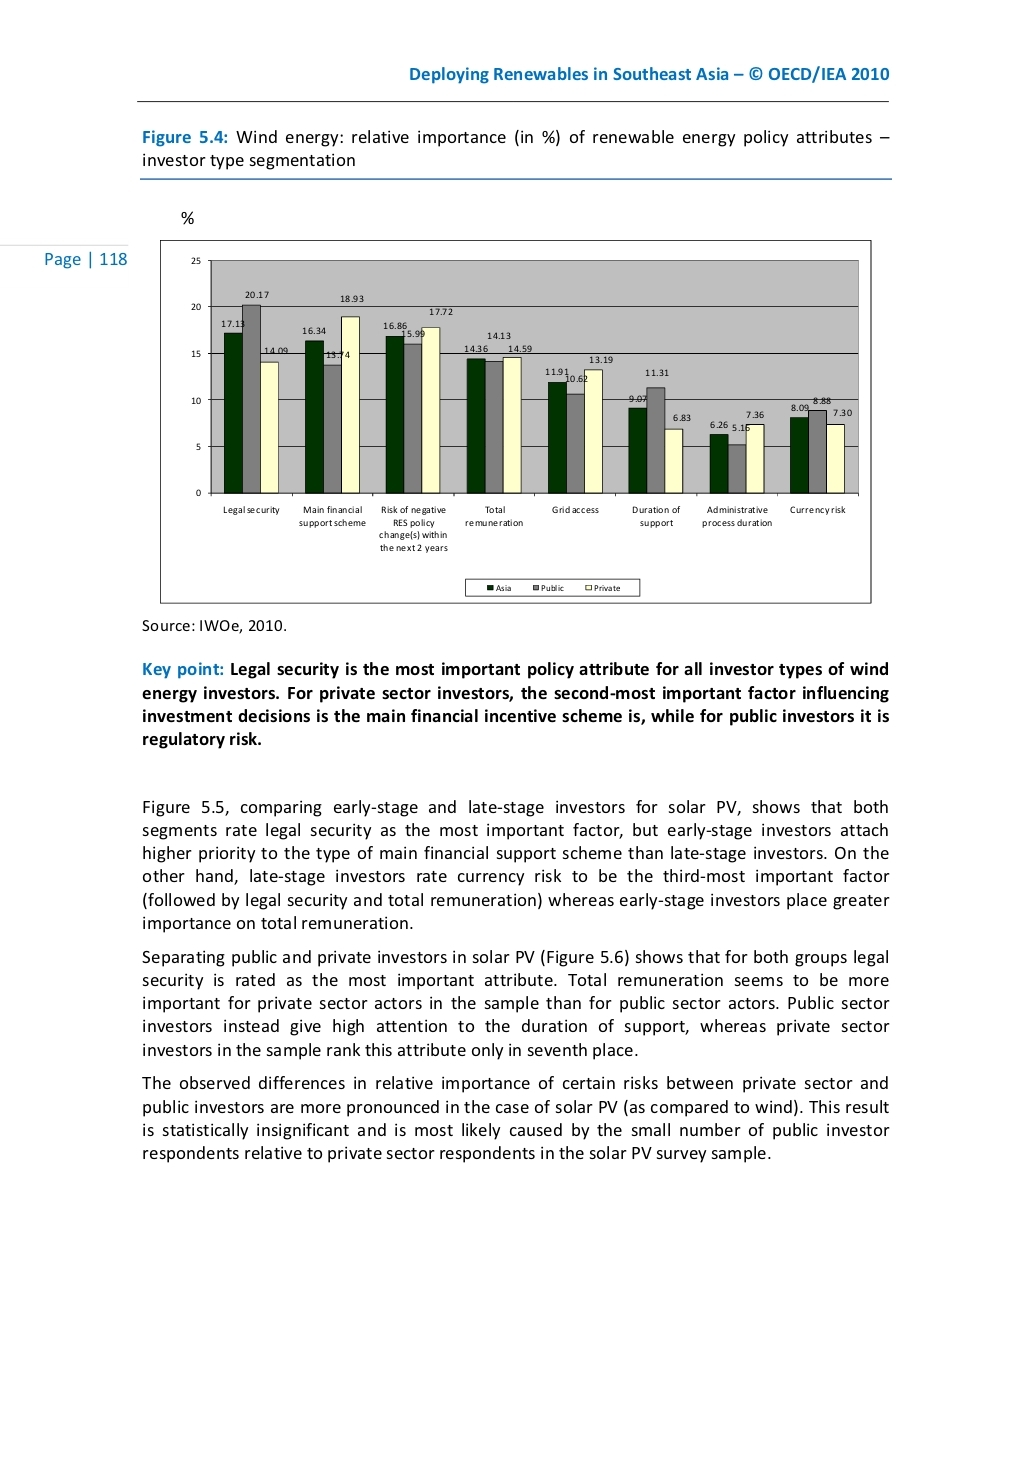figure: (160, 239, 871, 604)
